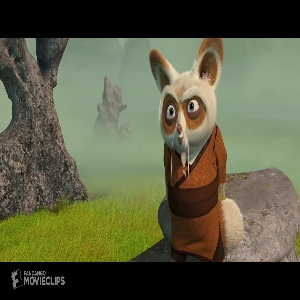shifu: (142, 40, 244, 262)
